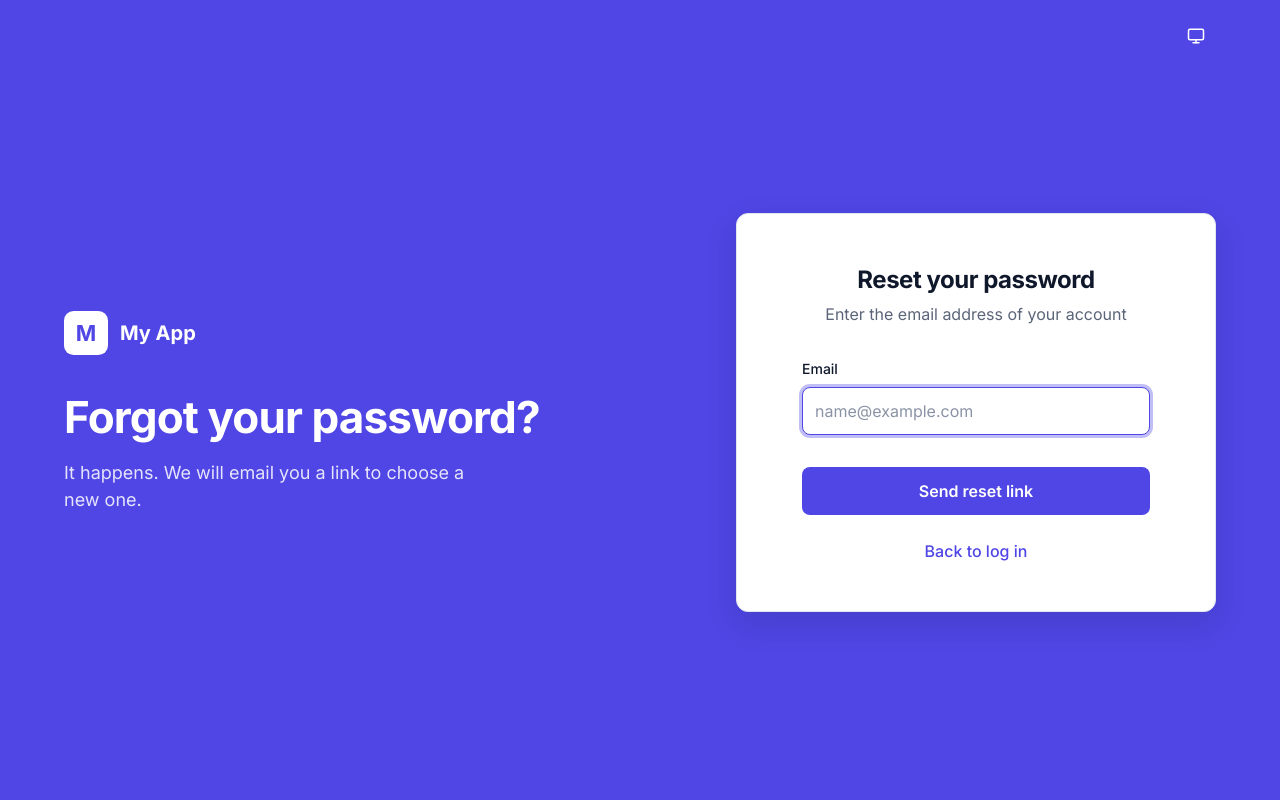
Scenario: forgot password › an invalid email is reported without asking the server
expect the heading "Reset your password" is shown: met, box [857,264,1095,294]
Click the button "Send reset link".
click(976, 490)  # box [802,466,1150,514]
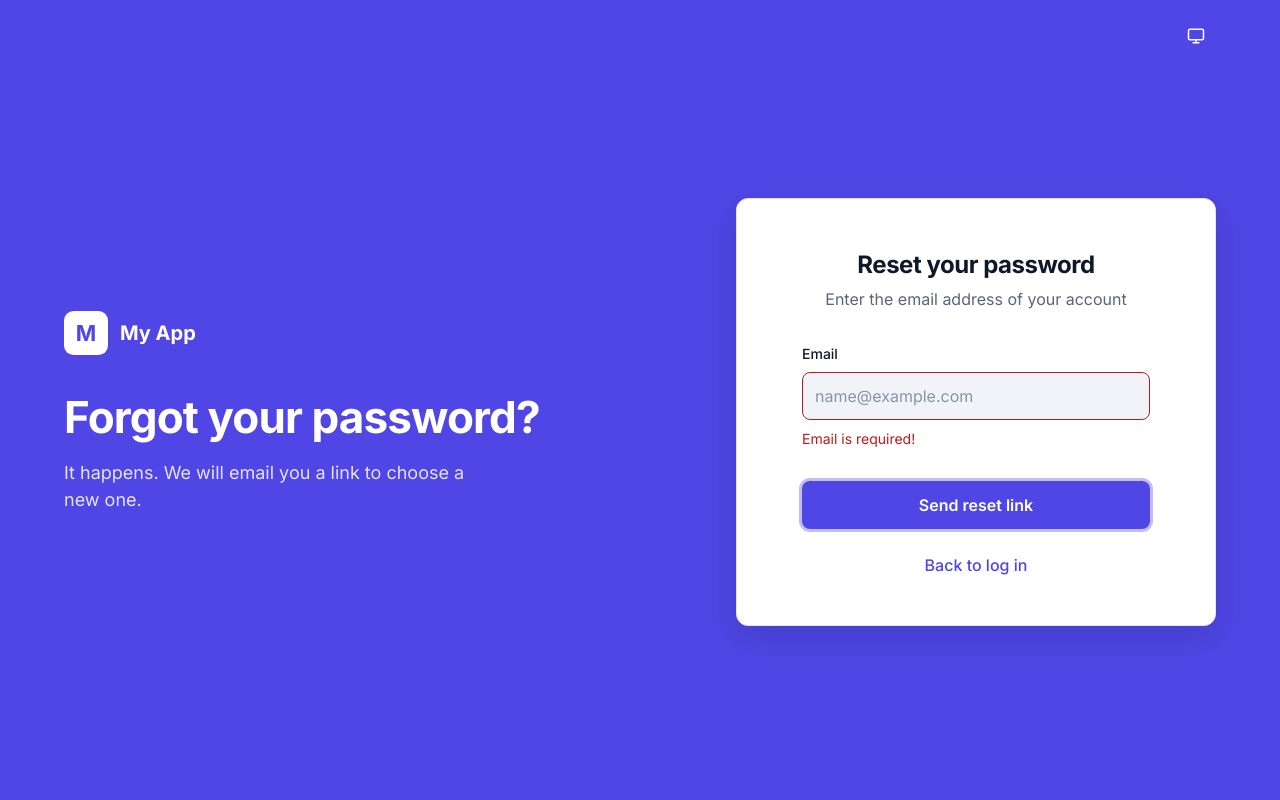
expect the text "Email is required!" is shown: met, box [802,430,915,447]
Type "not-an-email" into the field labelled "Email".
click(976, 396); type("not-an-email")  # box [802,372,1150,420]
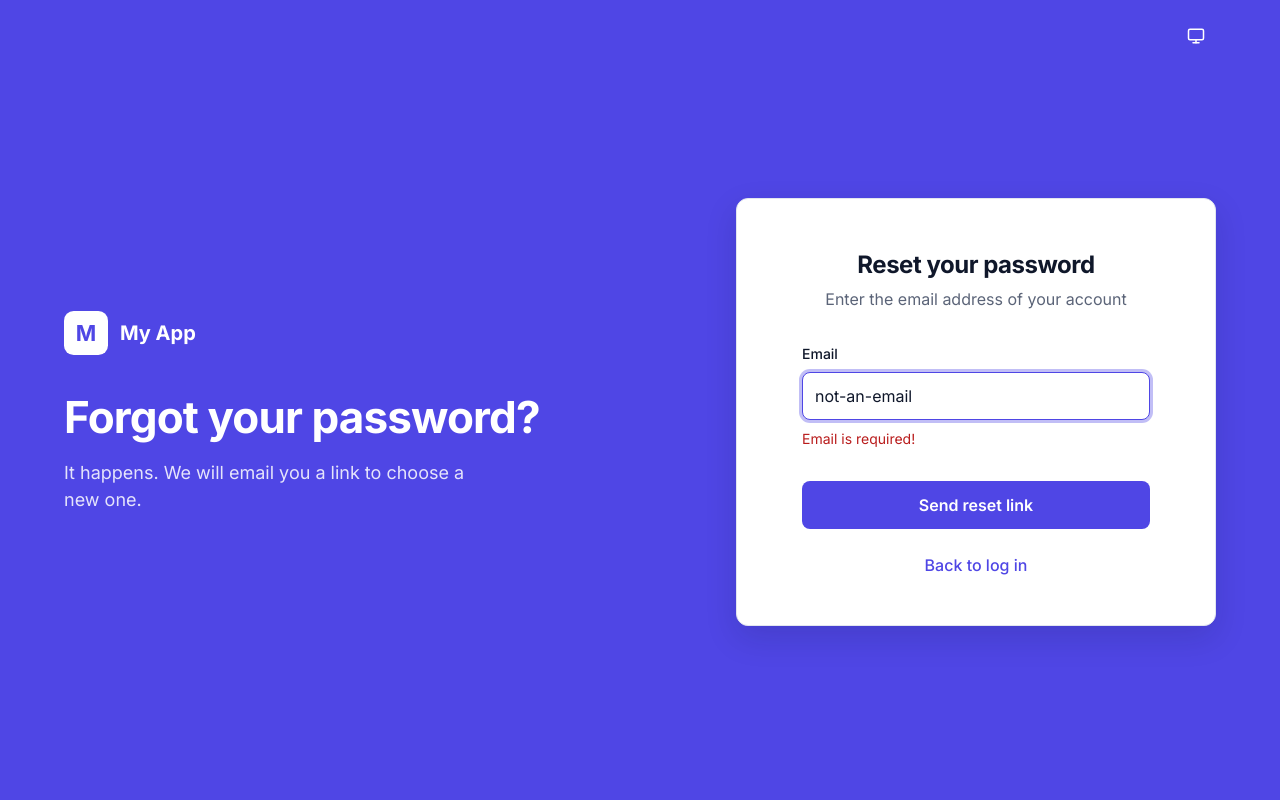
Click the button "Send reset link".
click(976, 505)  # box [802,481,1150,529]
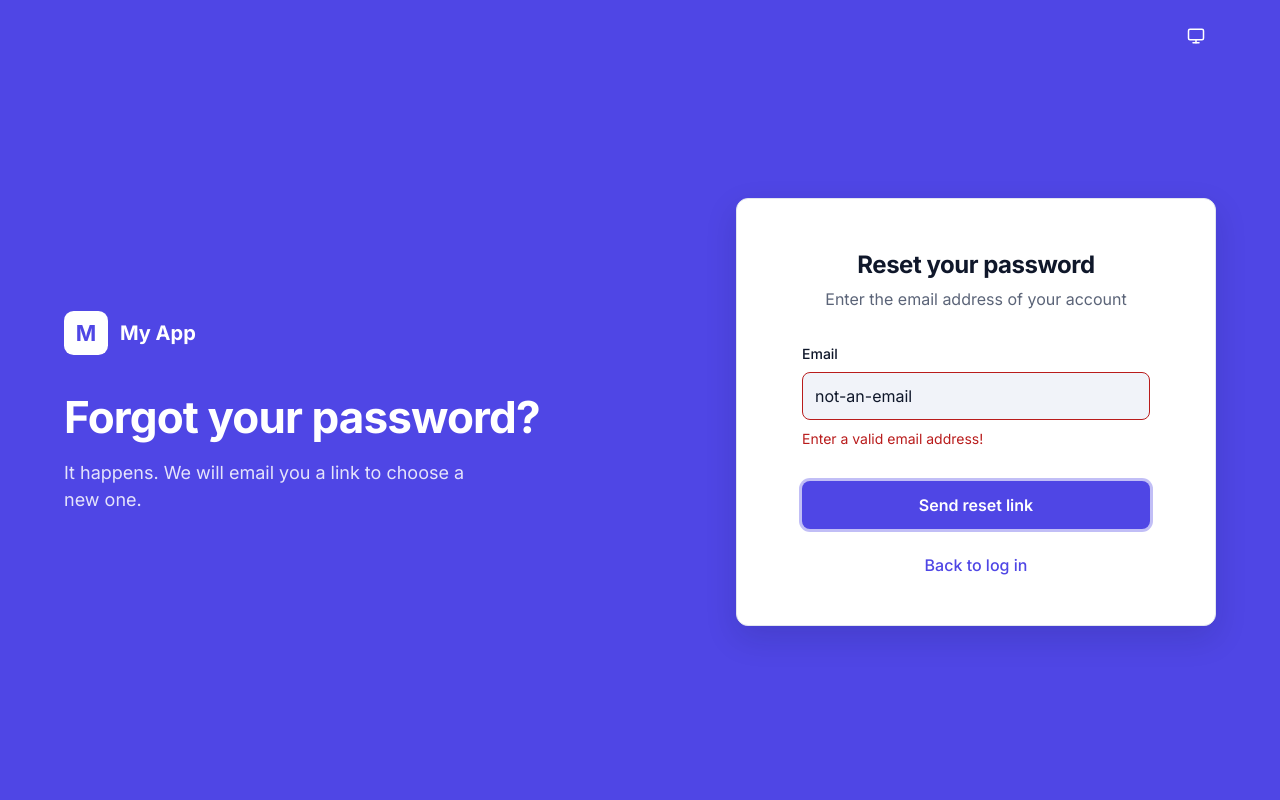
expect the text "Enter a valid email address!" is shown: met, box [802,430,983,447]
